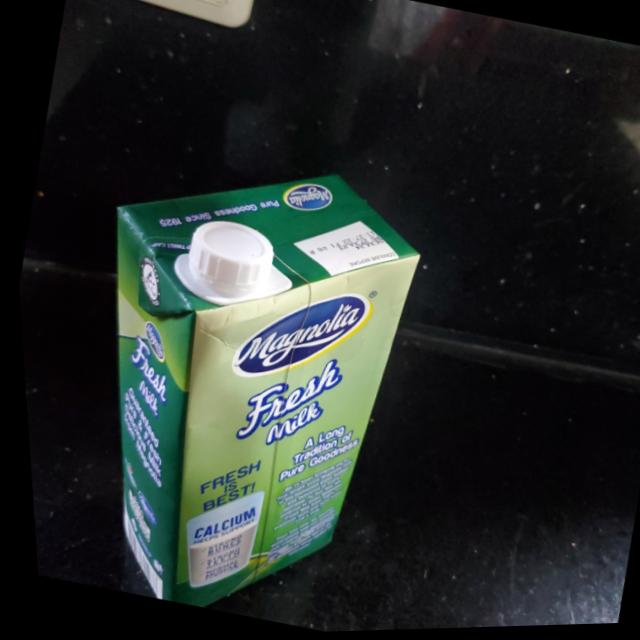milk: (27, 122, 453, 640)
